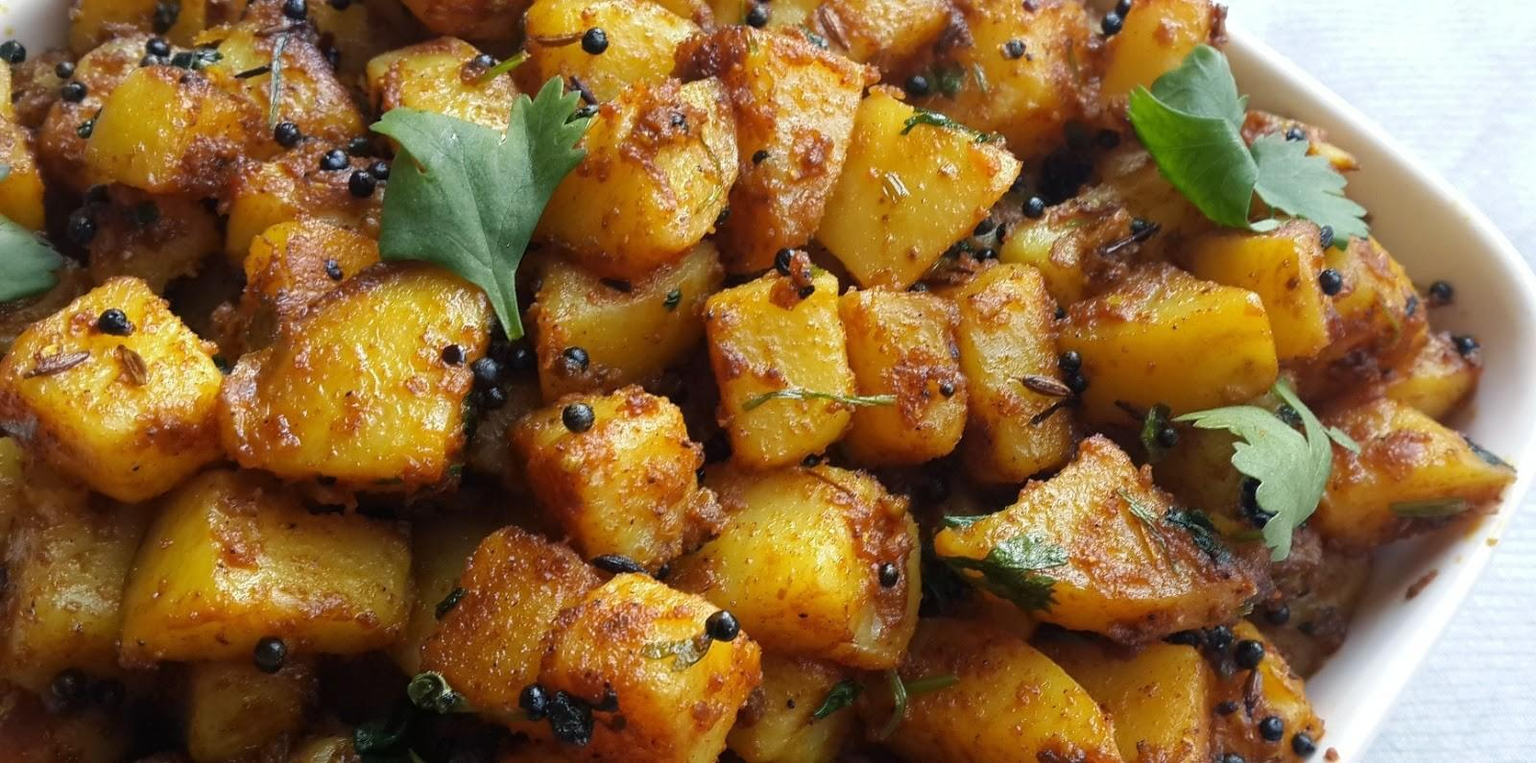AlooMasala: (0, 0, 1514, 763)
